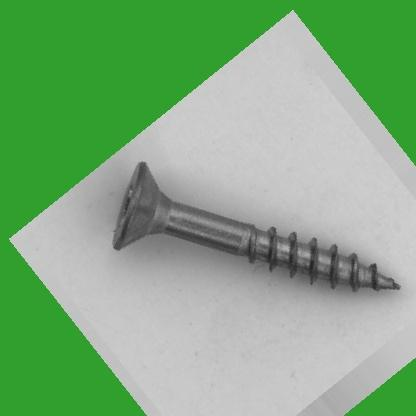metal: (107, 160, 400, 292)
